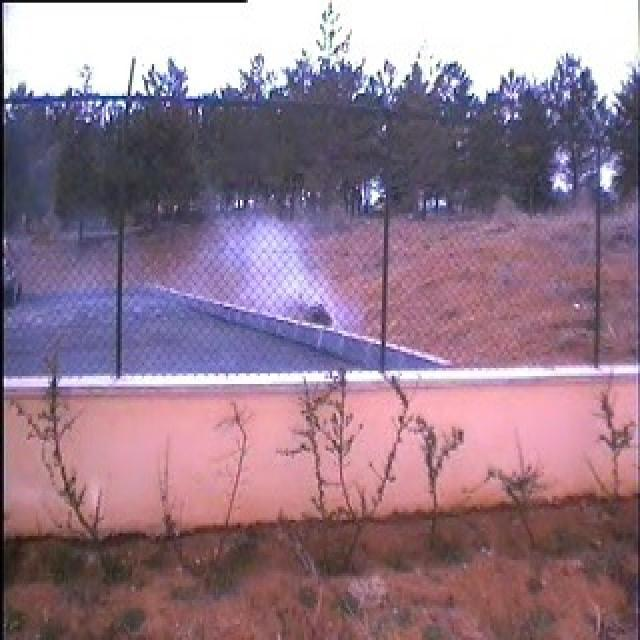Smoke: (230, 220, 338, 323)
